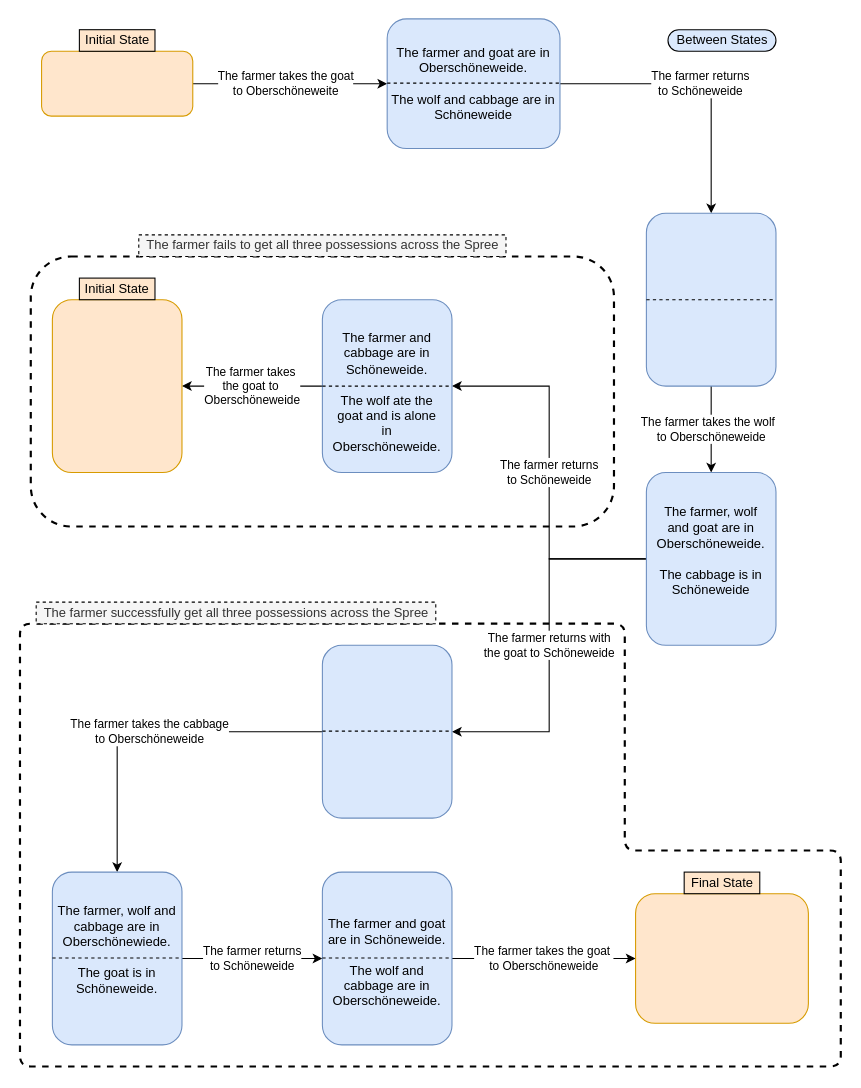
The diagram is 861 pixels wide and 1088 high, and some of its shapes have lost their labels. Here are the shapes that lost their labels. From the top down, the box of each, then its label:
(40, 50, 193, 116): The farmer, goat, wolf and cabbage are in Schöneweide
(645, 212, 776, 386): The goat is in Oberschöneweide. The farmer, wolf and cabbage are in Schöneweide.
(51, 299, 182, 473): The farmer, cabbage and wolf are in Oberschöneweide
(321, 644, 452, 818): The wolf is in Oberschöneweide. The farmer, goat and cabbage are in Schöneweide.
(634, 893, 808, 1023): The farmer, goat, wolf and cabbage are in Oberschöneweide.
